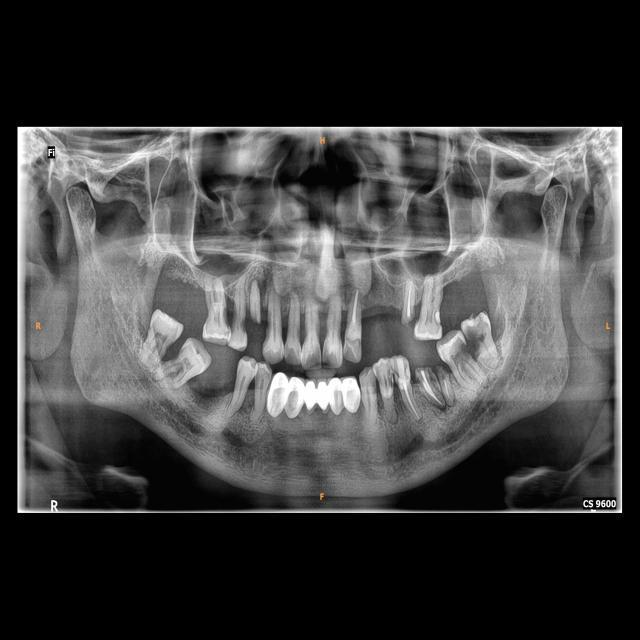dentin-curugu: (463, 317, 495, 357), (443, 334, 473, 374), (219, 290, 242, 338)
kanal-tedavisi: (423, 372, 453, 405), (347, 280, 366, 330), (399, 376, 420, 421), (400, 276, 414, 316)
kirik: (416, 361, 450, 383), (247, 304, 267, 339), (400, 306, 419, 336)
kopru: (266, 369, 368, 421)
